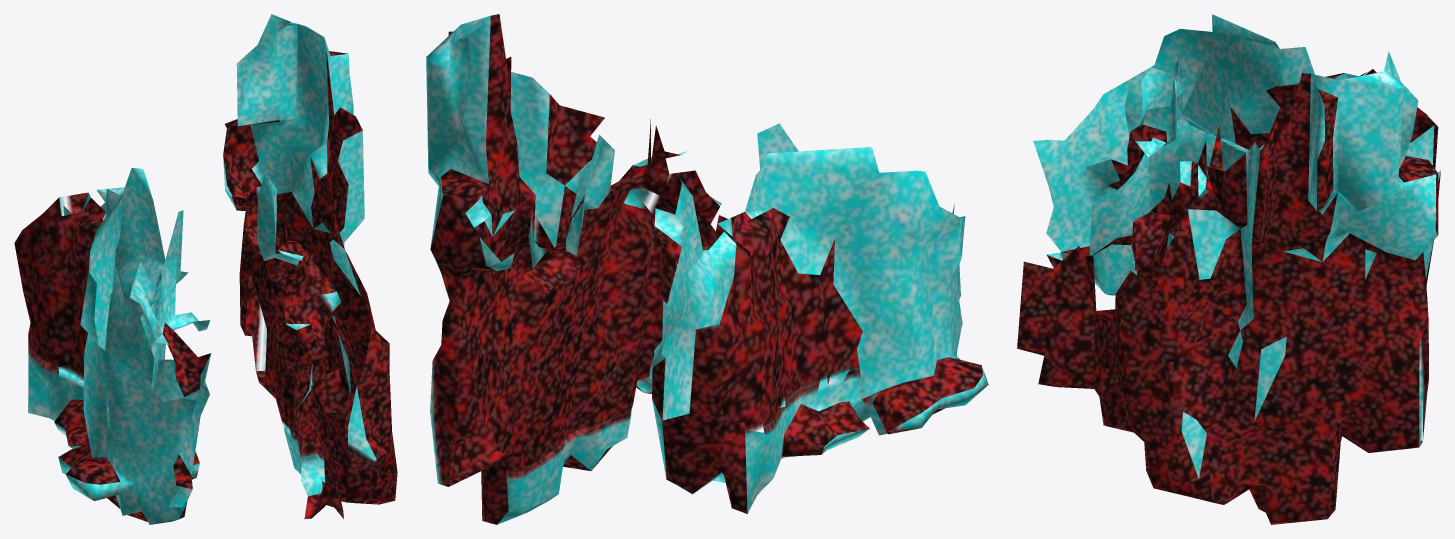
3 views of the same model, side by side, from view 1: azimuth 30°, elevation 25°; view 2: azimuth 150°, elevation 25°; view 3: azimuth 270°, elevation 25° (orthographic). The views are drawn at different scales.
Visible parts, largest first — view 1: SM_L_World_MainGrid_L0_X9_Y2_0_ShadowProxy_LOD0; view 2: SM_L_World_MainGrid_L0_X9_Y2_0_ShadowProxy_LOD0; view 3: SM_L_World_MainGrid_L0_X9_Y2_0_ShadowProxy_LOD0.
Boxes of the visible parts, x1,y1,x2,y2 form: SM_L_World_MainGrid_L0_X9_Y2_0_ShadowProxy_LOD0: (14, 14, 397, 524); SM_L_World_MainGrid_L0_X9_Y2_0_ShadowProxy_LOD0: (426, 14, 988, 524); SM_L_World_MainGrid_L0_X9_Y2_0_ShadowProxy_LOD0: (1017, 14, 1440, 524).
Bounding box in the file's own units: 177 × 206 × 169.
